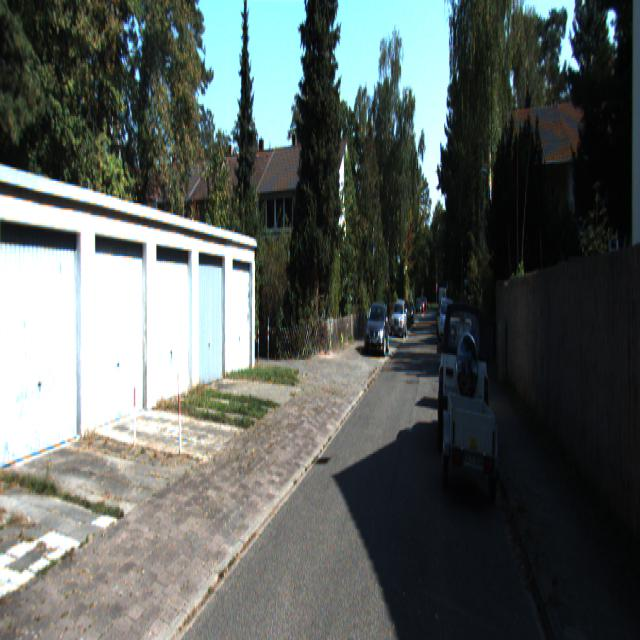Car: (438, 292, 488, 456), (447, 388, 497, 509), (366, 301, 390, 356), (390, 300, 408, 337)
